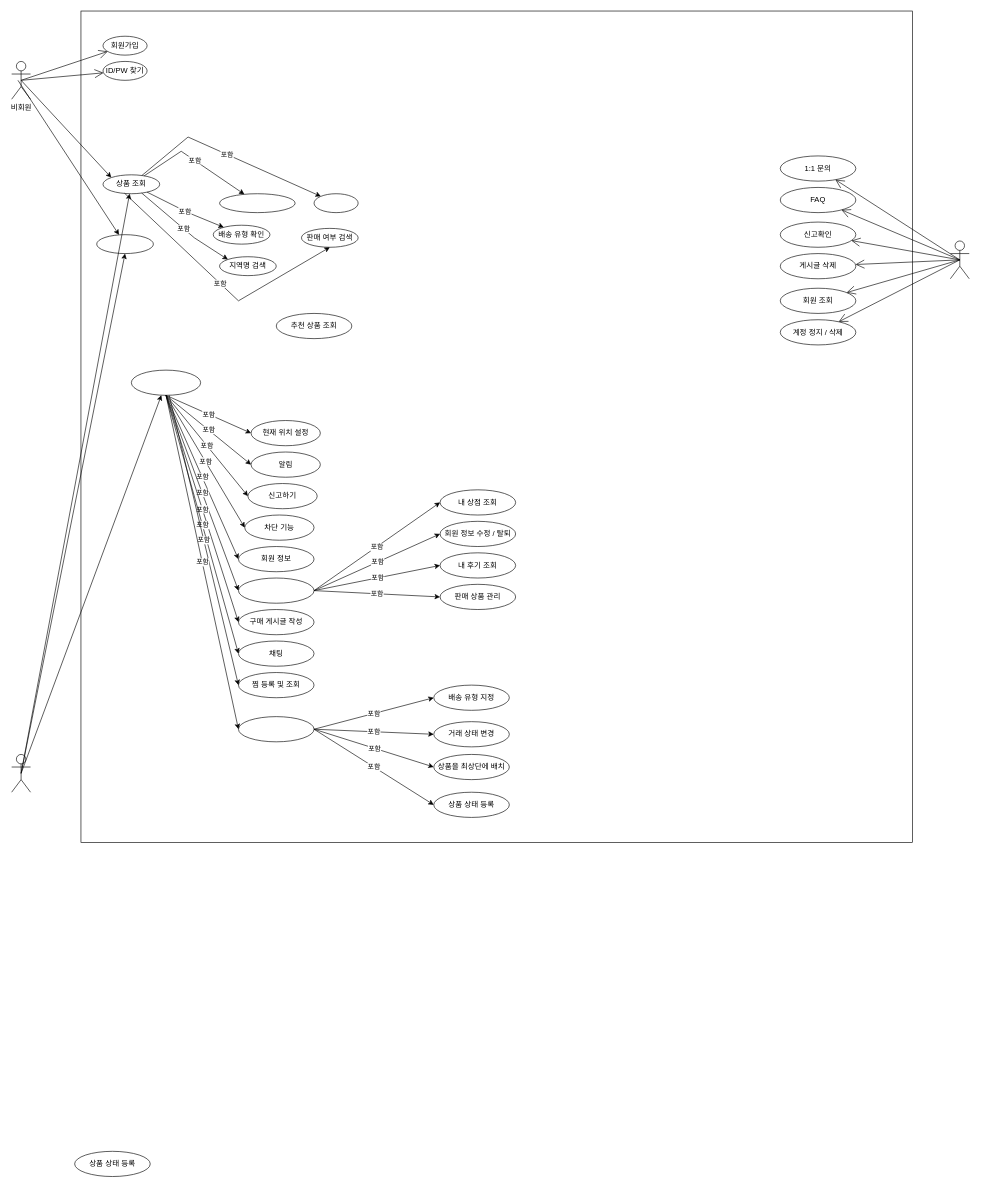
Some shapes in this 981 by 1188 pixel diagram are drawn without their labels. Here are the shapes that lost their labels. From the top down, the centre of each, then its label:
the point at 257,203: 카테고리 선택 / 조회
the point at 335,203: 상품명 검색
the point at 124,244: 최근 본 상품
the point at 959,259: 관리자
the point at 166,382: 로그인 및 로그아웃
the point at 276,590: 후기 남기기
the point at 276,729: 상품 등록
the point at 21,773: 회원
